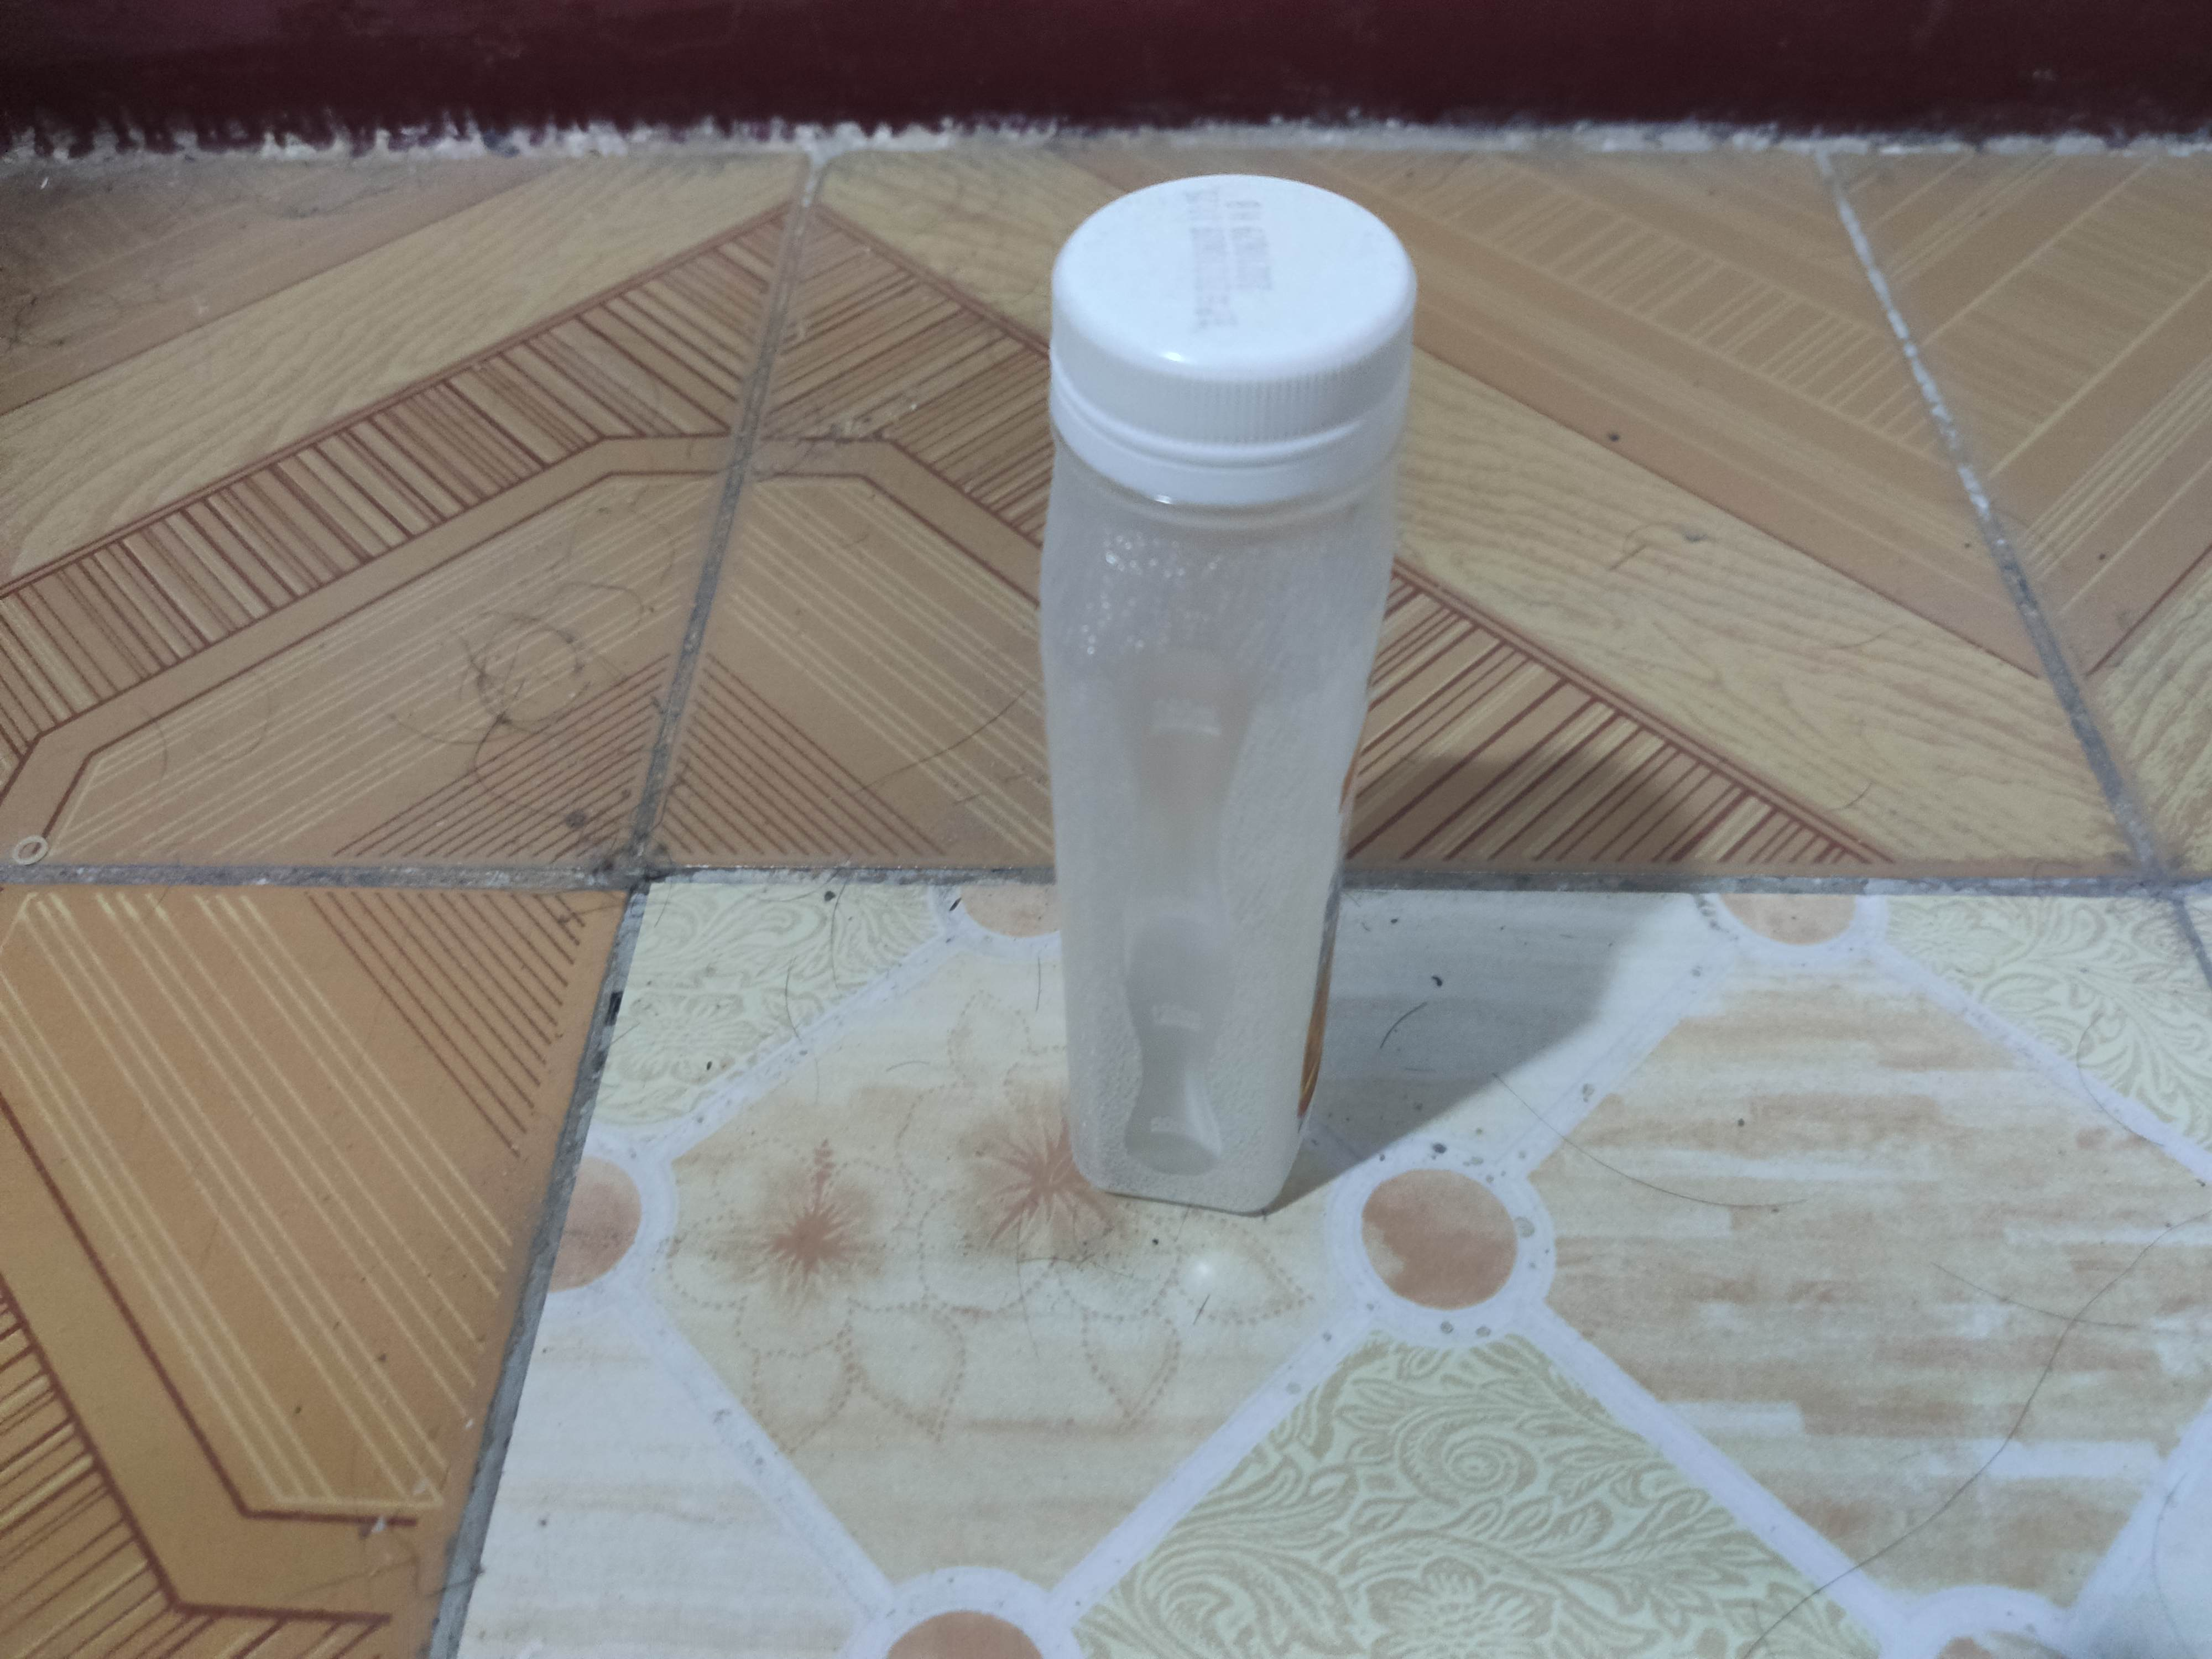Plastic Bottle: (1033, 169, 1420, 1222)
